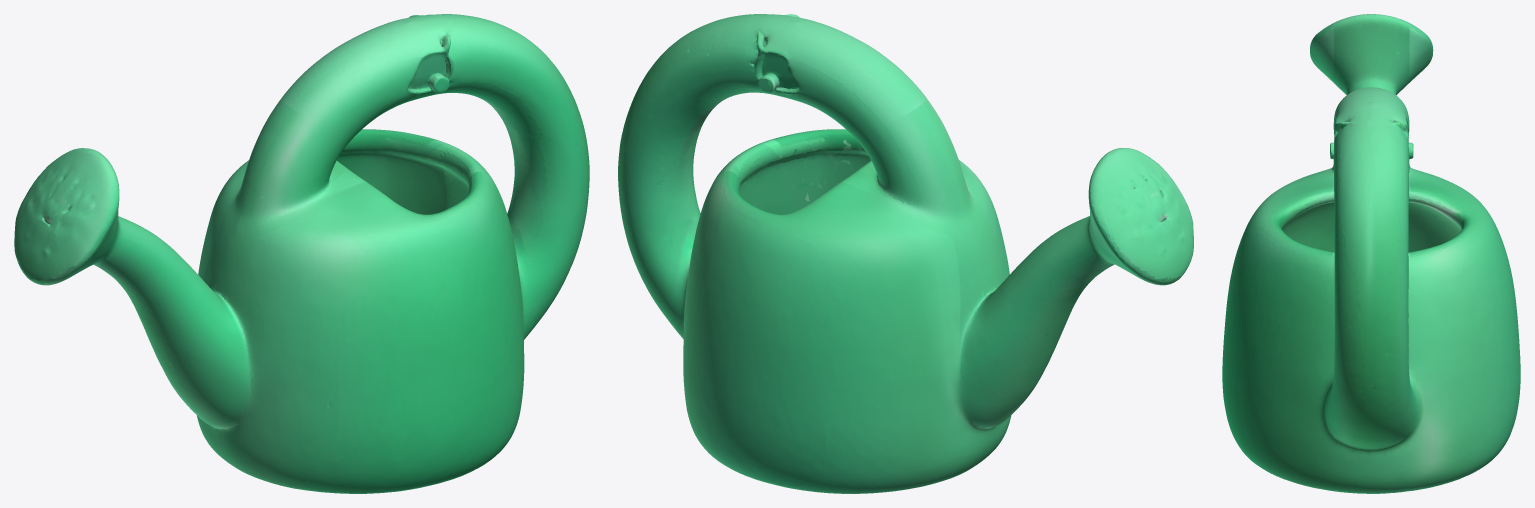
The model's file is prp_can_01.glb.
The picture shows the model from 3 angles, left to right: view 1: azimuth 30°, elevation 25°; view 2: azimuth 150°, elevation 25°; view 3: azimuth 270°, elevation 25°; orthographic projection. The views are drawn at different scales.
Visible parts, largest first — view 1: geometry_0; view 2: geometry_0; view 3: geometry_0.
Boxes of the visible parts, <box> form: geometry_0: <box>14,14,589,493</box>; geometry_0: <box>618,14,1193,493</box>; geometry_0: <box>1222,14,1520,493</box>.
Size of the model in its own units: 0.32 by 0.2206 by 0.1661.
Materials: 1 (1 with a texture image).
